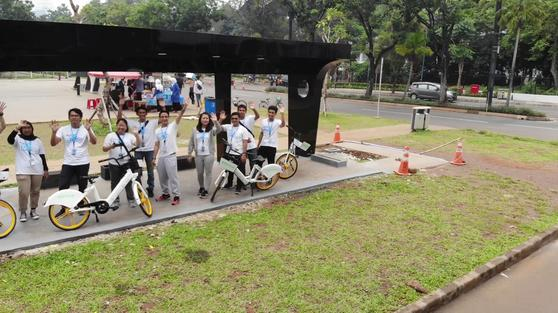bike: (45, 146, 160, 233), (205, 144, 283, 207), (272, 126, 315, 183), (1, 196, 20, 241)
